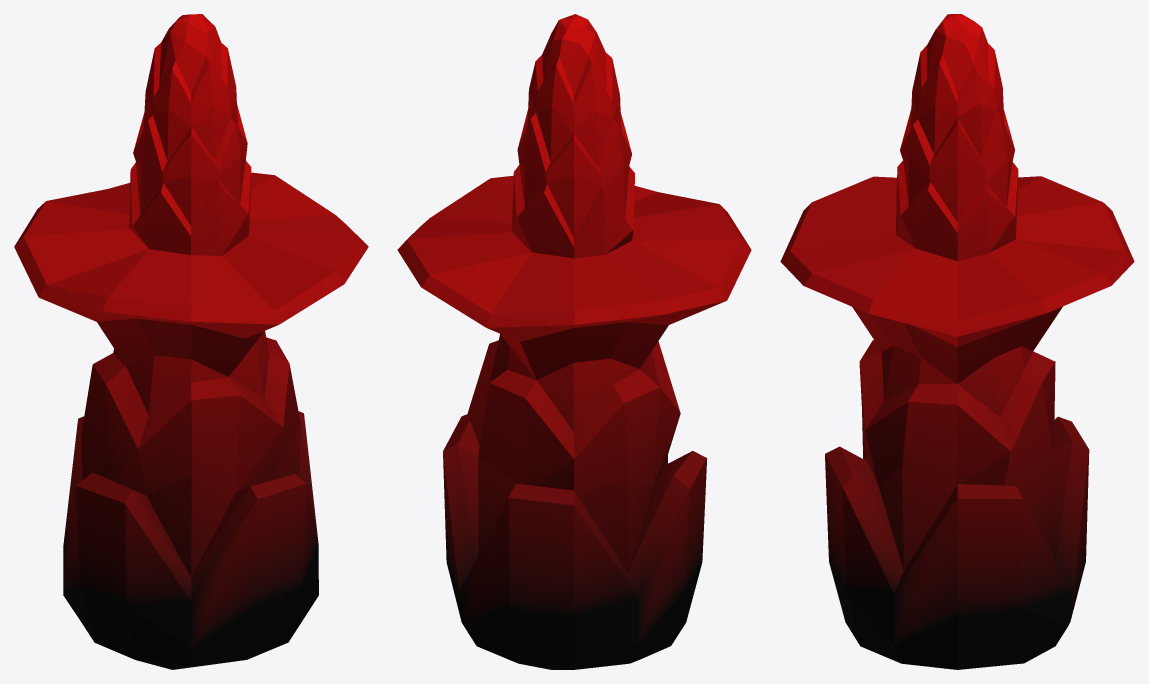
File: entity344806.glb
3 views of the same model, side by side, from view 1: azimuth 30°, elevation 25°; view 2: azimuth 150°, elevation 25°; view 3: azimuth 270°, elevation 25° (orthographic).
Parts seen in each view (by area): view 1: node_SM_Env_Plant_Pinecone_01 (2); view 2: node_SM_Env_Plant_Pinecone_01 (2); view 3: node_SM_Env_Plant_Pinecone_01 (2).
Boxes of the visible parts, x1=… form: node_SM_Env_Plant_Pinecone_01 (2): x1=14, y1=14, x2=368, y2=669; node_SM_Env_Plant_Pinecone_01 (2): x1=397, y1=14, x2=751, y2=669; node_SM_Env_Plant_Pinecone_01 (2): x1=780, y1=14, x2=1134, y2=669.
Bounding box in the file's own units: 3.71 × 7.16 × 3.71.
